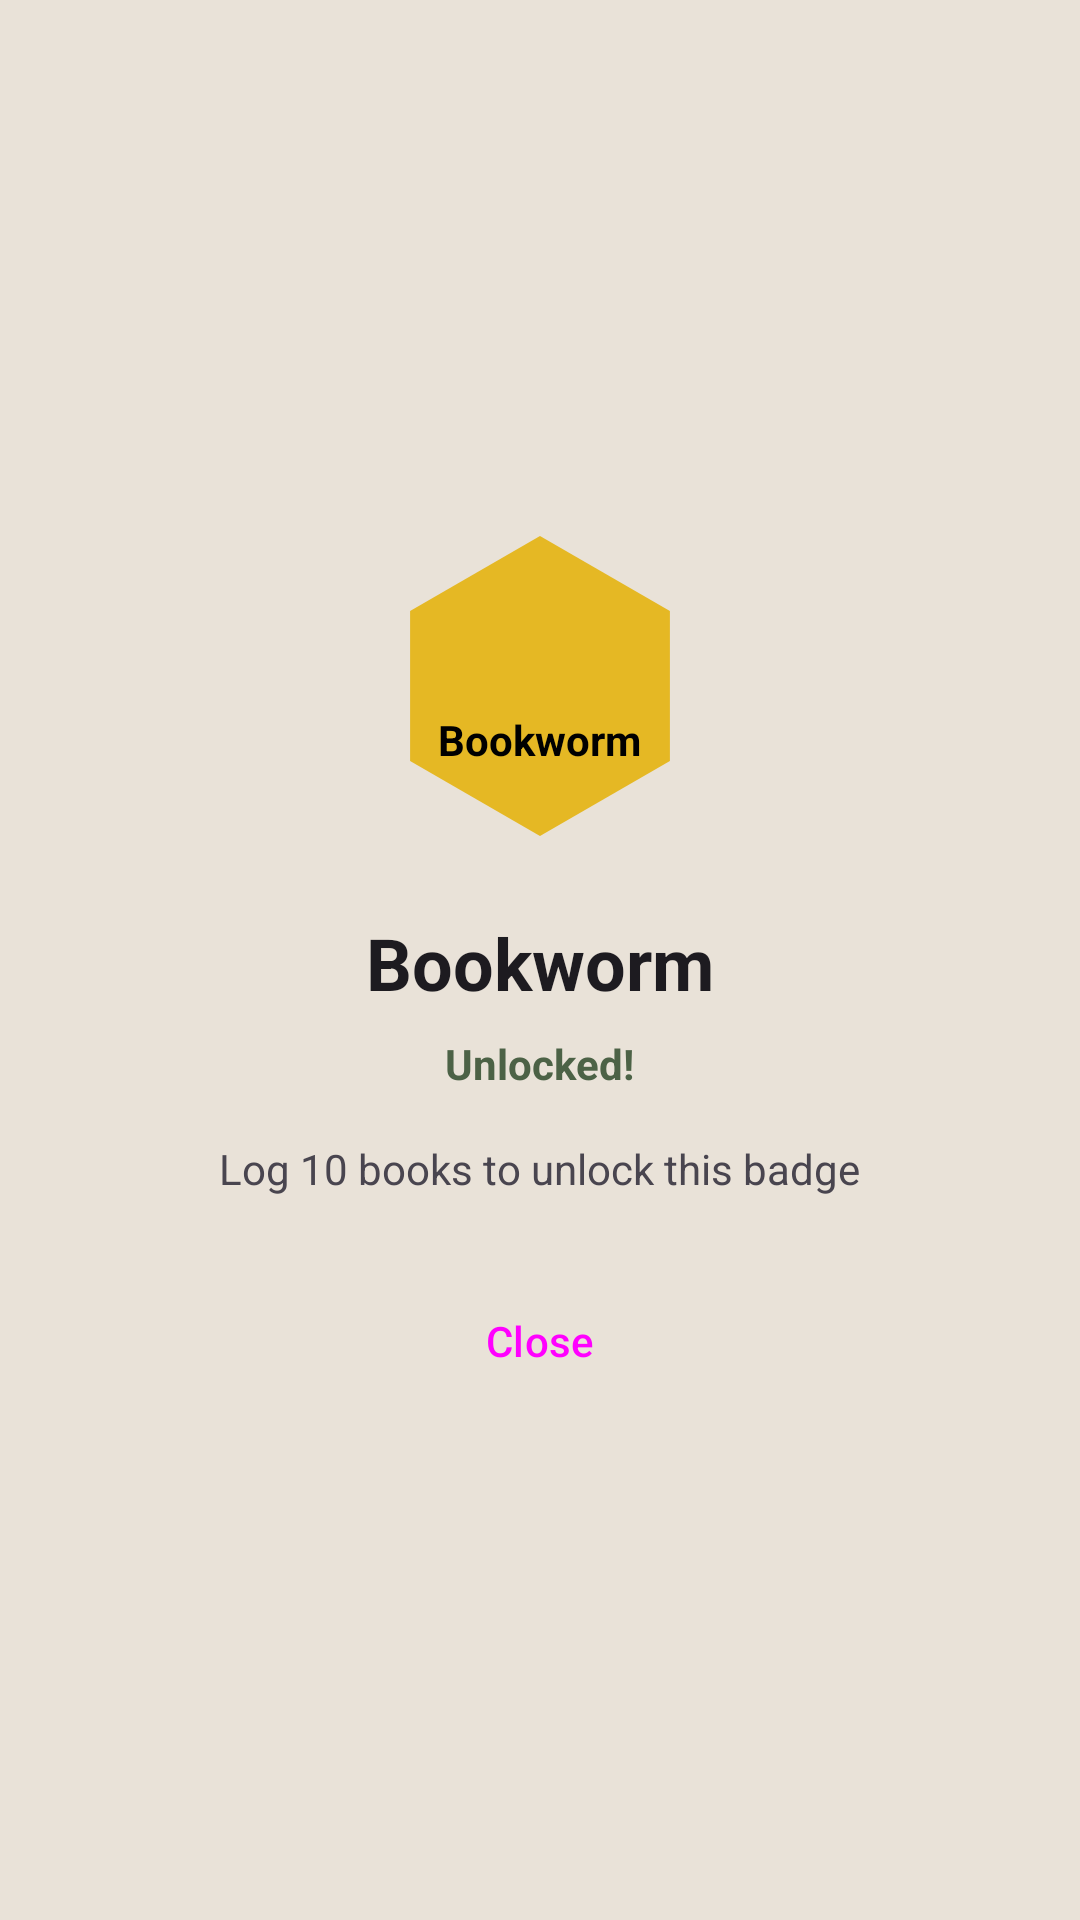

Icons on this 1080 x 1920 Android screen, each with its box as (x1, y1, x2, y2):
shape hexagon gold: (410, 536, 670, 836)
